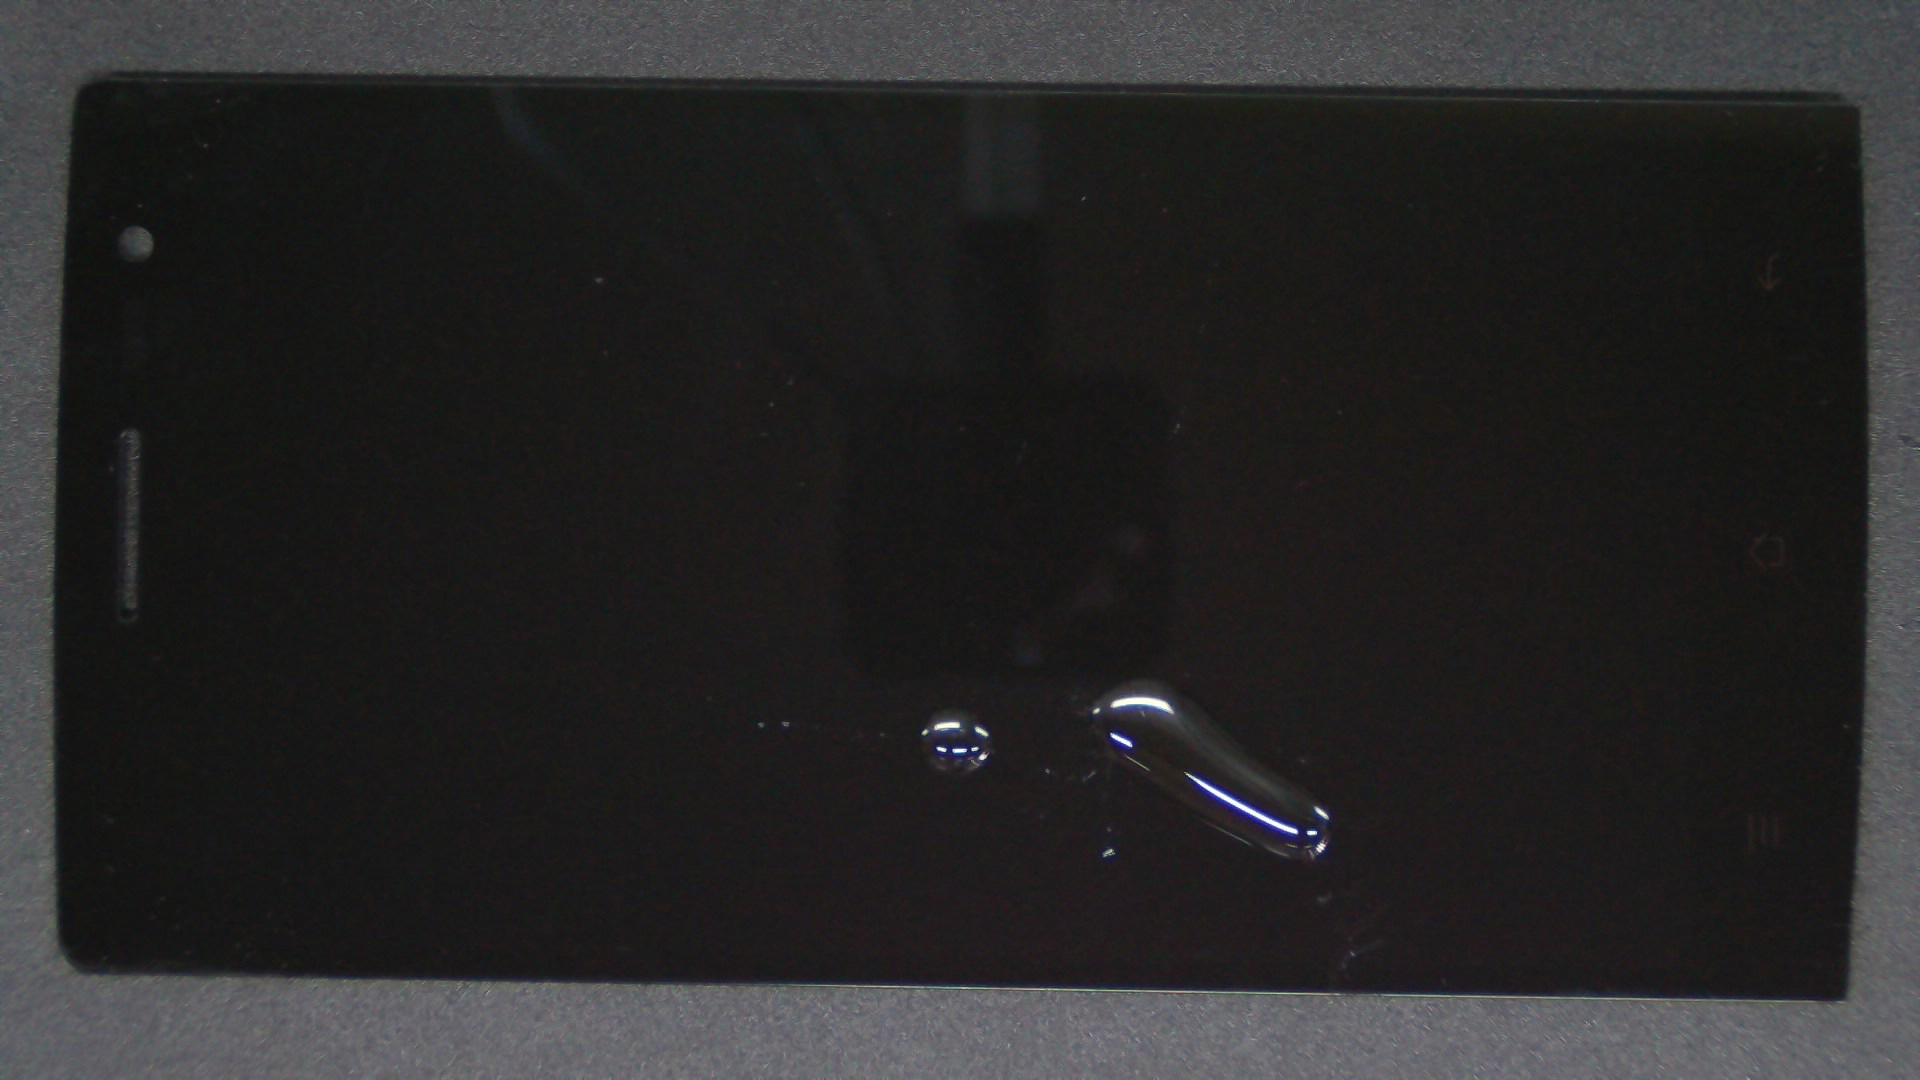defect: (1076, 679, 1336, 862), (916, 709, 996, 778)
